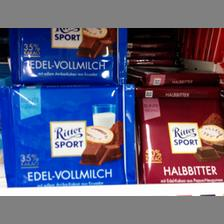Schokolade: (4, 85, 138, 185), (140, 98, 224, 182), (8, 27, 128, 83)
